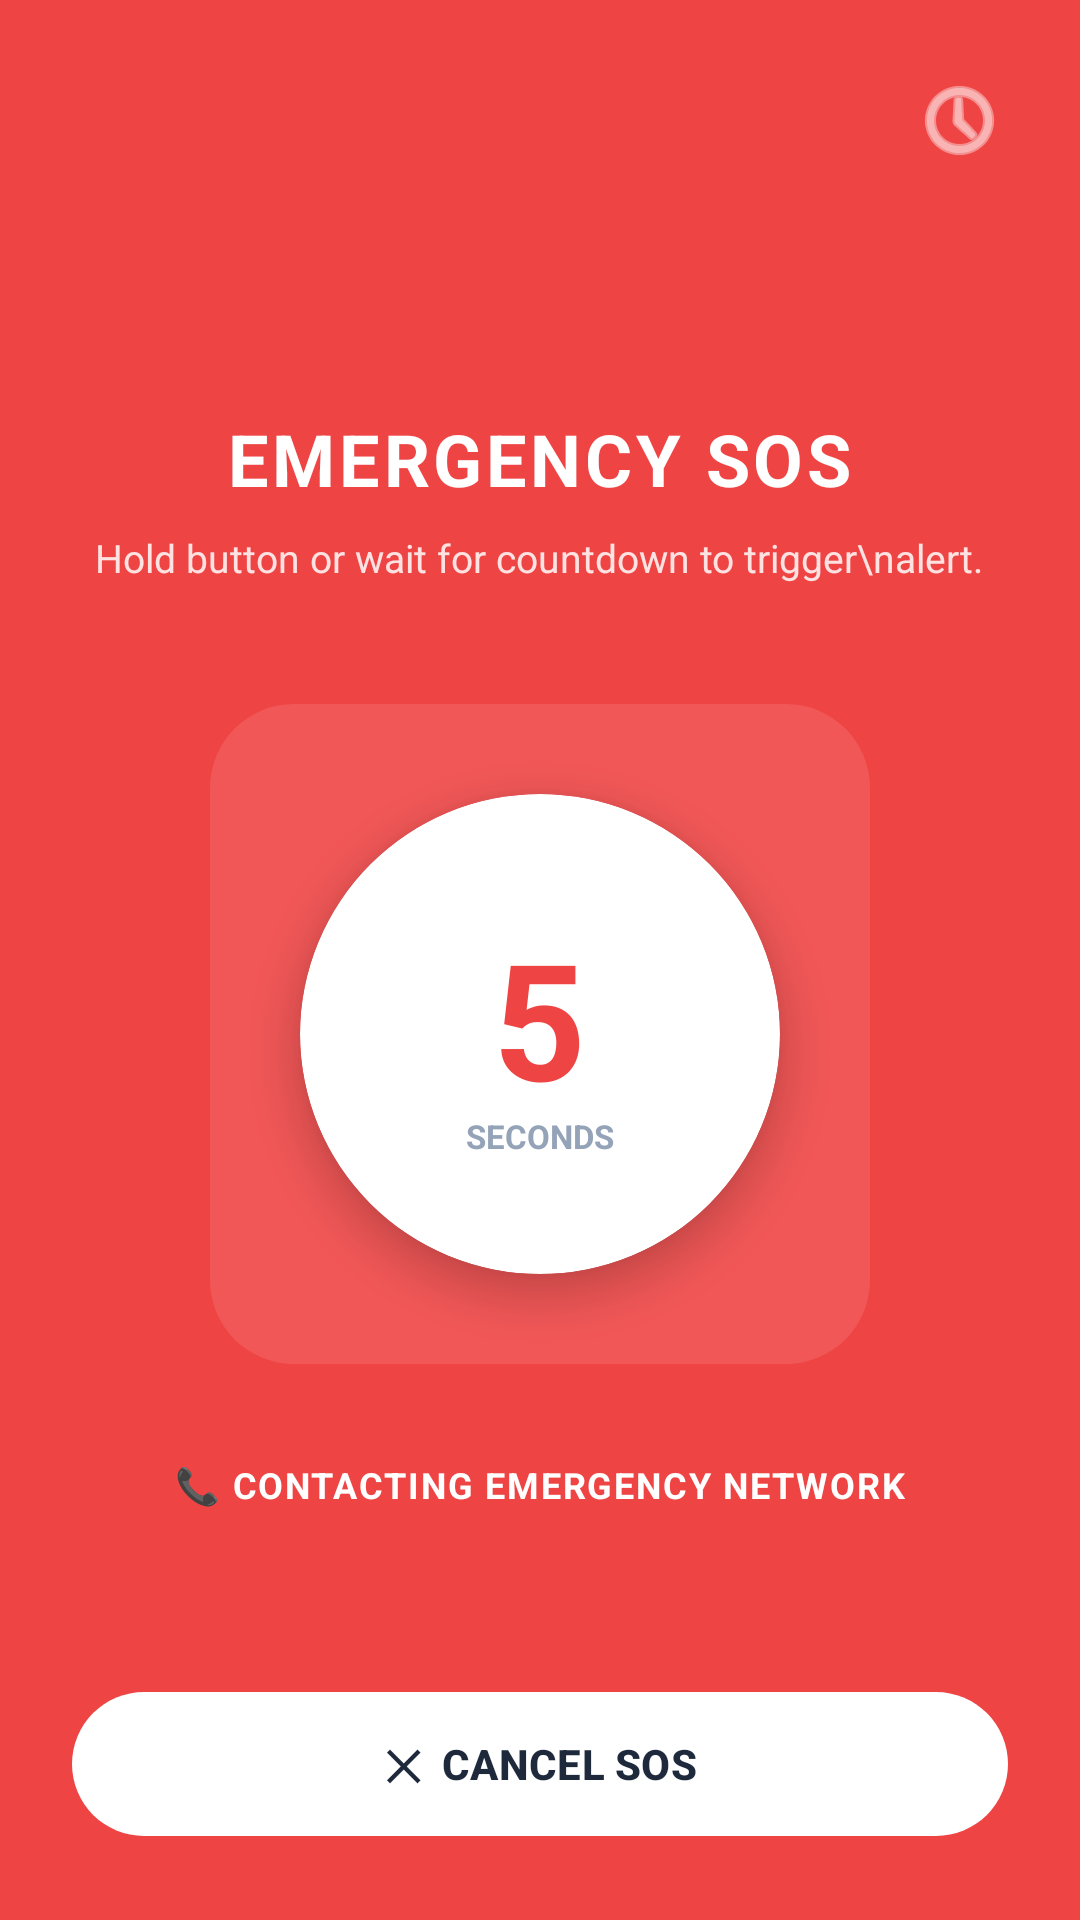

Icon bounding boxes for this 1080px x 1920px phone screenshot, format (x1, y1, x2, y2):
recent history: (925, 86, 994, 155)
